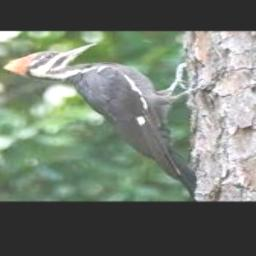Woodpecker: (2, 43, 200, 199)
